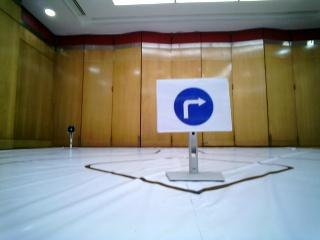right: (161, 79, 229, 130)
